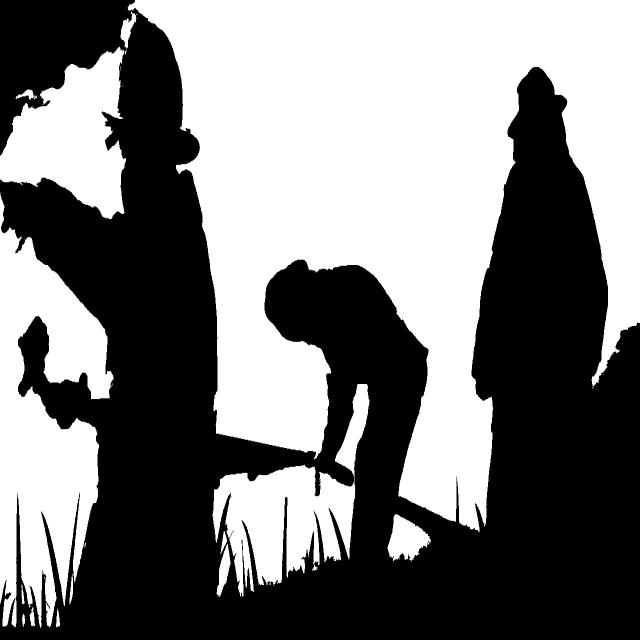fire: (22, 17, 632, 581)
